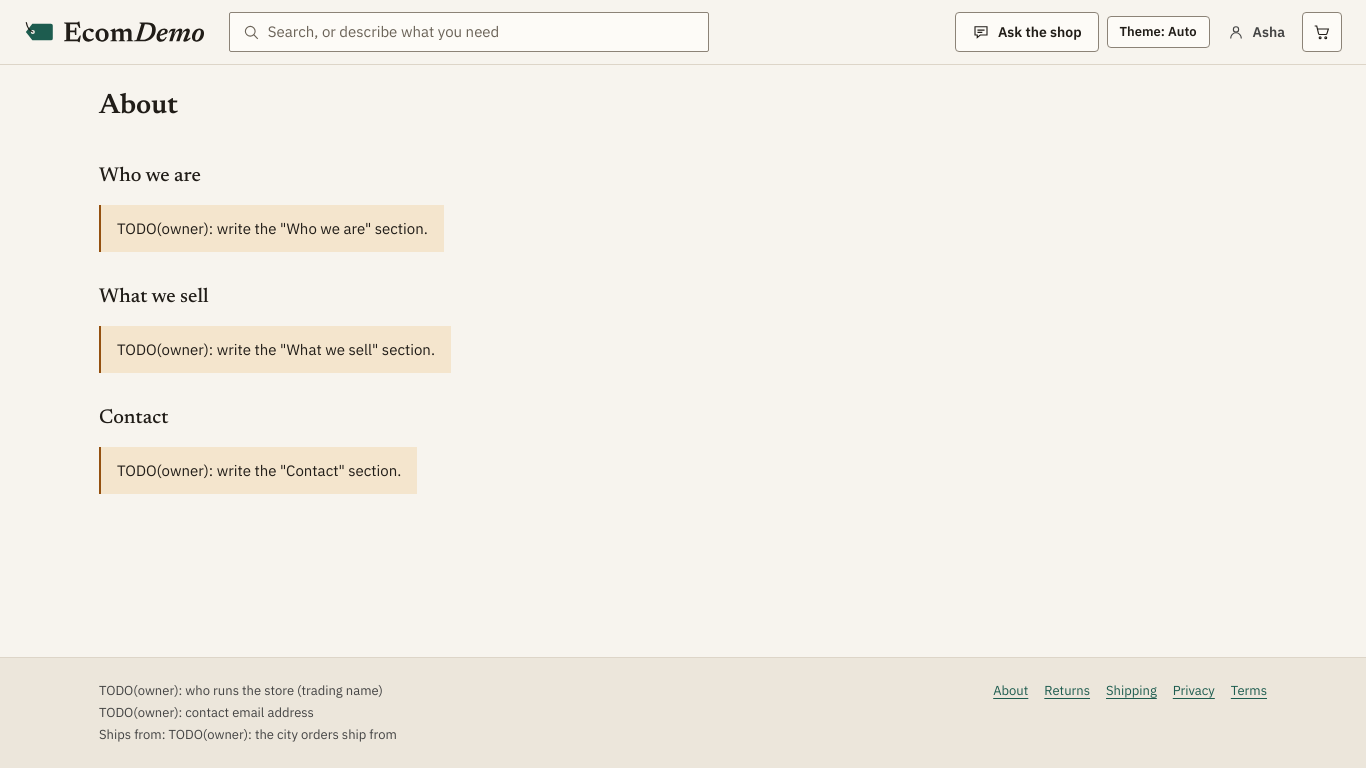
it: the account menu › opens to My orders, Account and Sign out, and says it is open
Expected: the heading "About" is shown, top-left (99, 89), bottom-right (178, 123)
Click the button with aria-label "Account: Asha" at (1256, 32), box top-left (1218, 12), bottom-right (1294, 52)
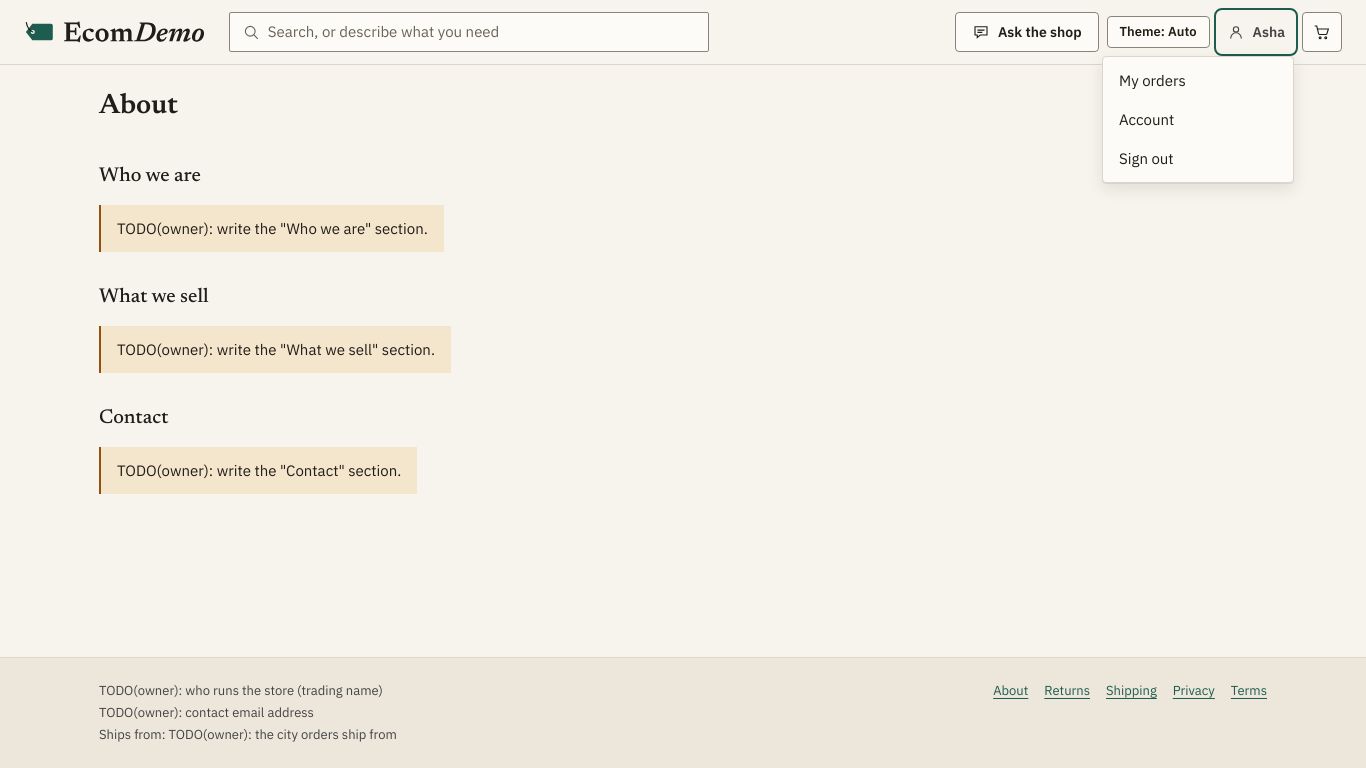
Result: the button "Sign out" is shown at top-left (1107, 139), bottom-right (1289, 178)
